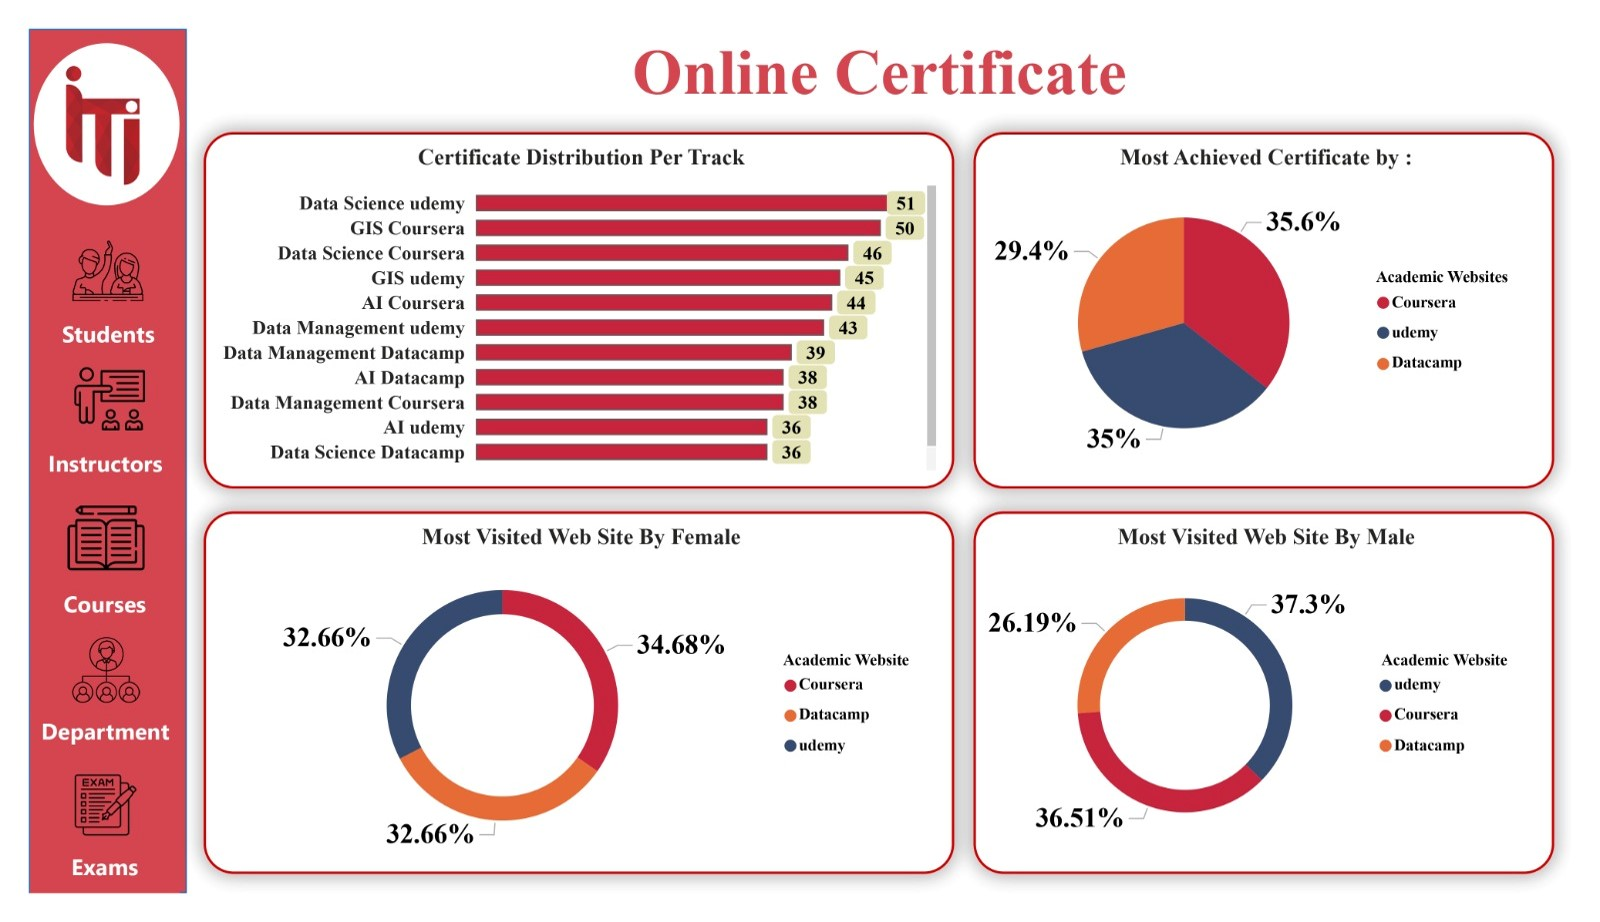

This screenshot's page, from the dashboard's own definition file:
{"tool":"powerbi","page":{"name":"Online Certificate","canvas":[1280,720],"ordinal":11},"visuals":[{"type":"textbox","box":[131.7,0,1148.8,79],"z":0},{"type":"image","box":[7.2,272.1,119.5,72],"z":0,"group":"g1"},{"type":"shape","box":[0,0,131,720],"z":1000},{"type":"image","box":[5.7,167,121,69.1],"z":1000,"group":"g1"},{"type":"shape","box":[4.3,11.5,121,135.4],"z":2000},{"type":"textbox","box":[11.5,236.1,109.4,36],"z":2000,"group":"g1"},{"type":"image","box":[0,11.5,125.3,123.8],"z":3000},{"type":"textbox","box":[1.4,344.1,125.3,43.2],"z":3000,"group":"g1"},{"type":"image","box":[1.4,387.3,125.3,73.4],"z":4000,"group":"g1"},{"type":"donutChart","title":"Most Visited Web Site By Female","fields":{"Category":["Fact | student.Std_Academic_Websites"],"Y":["Measures (2).FemaleStudent"]},"box":[145.2,401.9,623.1,302.3],"z":4000},{"type":"clusteredBarChart","title":"Certificate Distribution Per Track","fields":{"Category":["Dim_tracks.TrackName","Fact | student.Std_Academic_Websites"],"Y":["Count(Fact | student.StudentID)"]},"box":[145.2,86.1,623.1,297.2],"z":5000},{"type":"image","box":[1.4,613.4,125.3,66.2],"z":5000,"group":"g1"},{"type":"pieChart","title":"Most Achieved Certificate by :","fields":{"Category":["Fact | student.Std_Academic_Websites"],"Y":["Count(Fact | student.StudentID)"]},"box":[783.5,86.1,483,297.2],"z":6000},{"type":"textbox","box":[1.4,460.8,123.8,43.2],"z":6000,"group":"g1"},{"type":"donutChart","title":"Most Visited Web Site By Male","fields":{"Category":["Fact | student.Std_Academic_Websites"],"Y":["Measures (2).MaleStudent"]},"box":[783.5,401.9,483,302.3],"z":7000},{"type":"textbox","box":[1.4,679.6,123.8,40.3],"z":7000,"group":"g1"},{"type":"group","id":"g1","title":"Group 1","box":[1.4,167,125.3,553],"z":8000},{"type":"image","box":[1.4,501.1,125.3,66.2],"z":8000,"group":"g1"},{"type":"textbox","box":[1.4,567.3,125.3,46.1],"z":9000,"group":"g1"}]}

Visuals, with their boxes in screenshot pixels (x1, y1, x2, y2), scaled from the page's 1280x720 canvas onto the 1600x922 screenshot:
textbox: bbox=[165, 0, 1599, 101]
image: bbox=[9, 348, 158, 441]
shape: bbox=[0, 0, 164, 921]
image: bbox=[7, 214, 158, 302]
shape: bbox=[5, 15, 157, 188]
textbox: bbox=[14, 302, 151, 348]
image: bbox=[0, 15, 157, 173]
textbox: bbox=[2, 441, 158, 496]
image: bbox=[2, 496, 158, 590]
"Most Visited Web Site By Female" donutChart: bbox=[182, 515, 960, 902]
"Certificate Distribution Per Track" clusteredBarChart: bbox=[182, 110, 960, 491]
image: bbox=[2, 785, 158, 870]
"Most Achieved Certificate by :" pieChart: bbox=[979, 110, 1583, 491]
textbox: bbox=[2, 590, 156, 645]
"Most Visited Web Site By Male" donutChart: bbox=[979, 515, 1583, 902]
textbox: bbox=[2, 870, 156, 921]
"Group 1" group: bbox=[2, 214, 158, 921]
image: bbox=[2, 642, 158, 726]
textbox: bbox=[2, 726, 158, 785]
